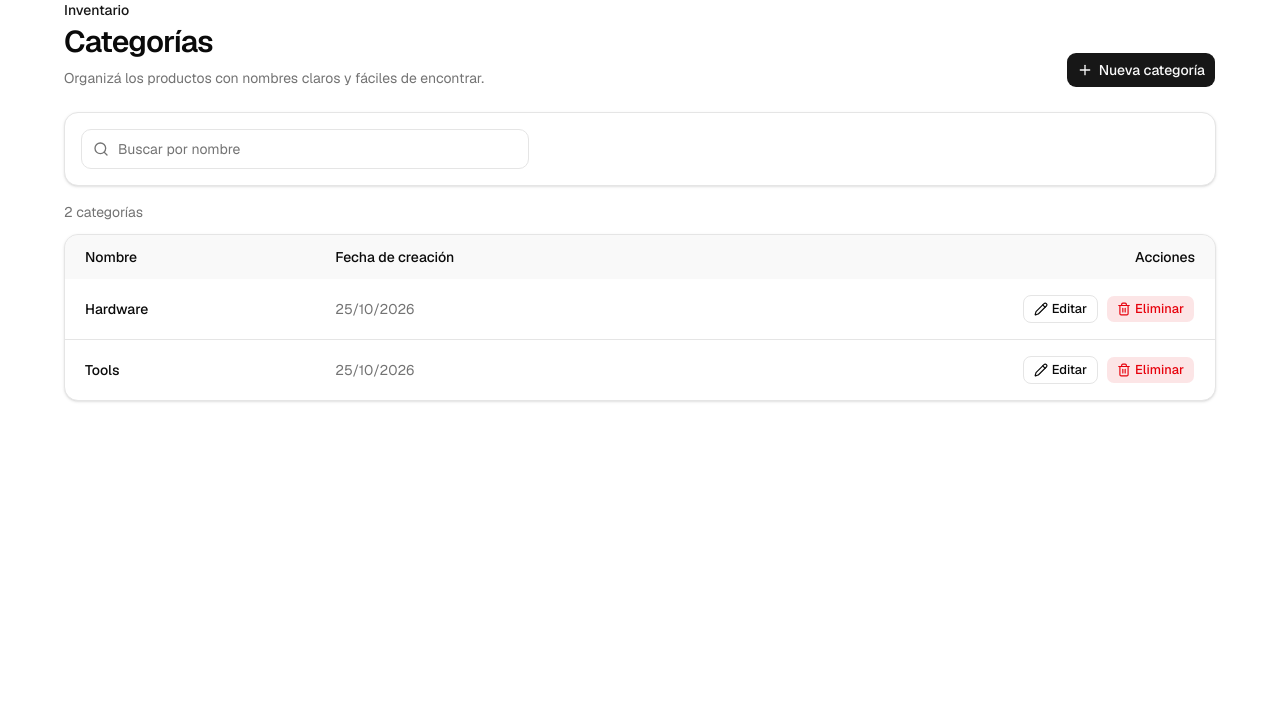
Scenario: CategoriesPage › keeps the form open and shows a duplicate-name conflict
Click the button "Nueva categoría" at (1141, 70), box [1066, 52, 1216, 88]
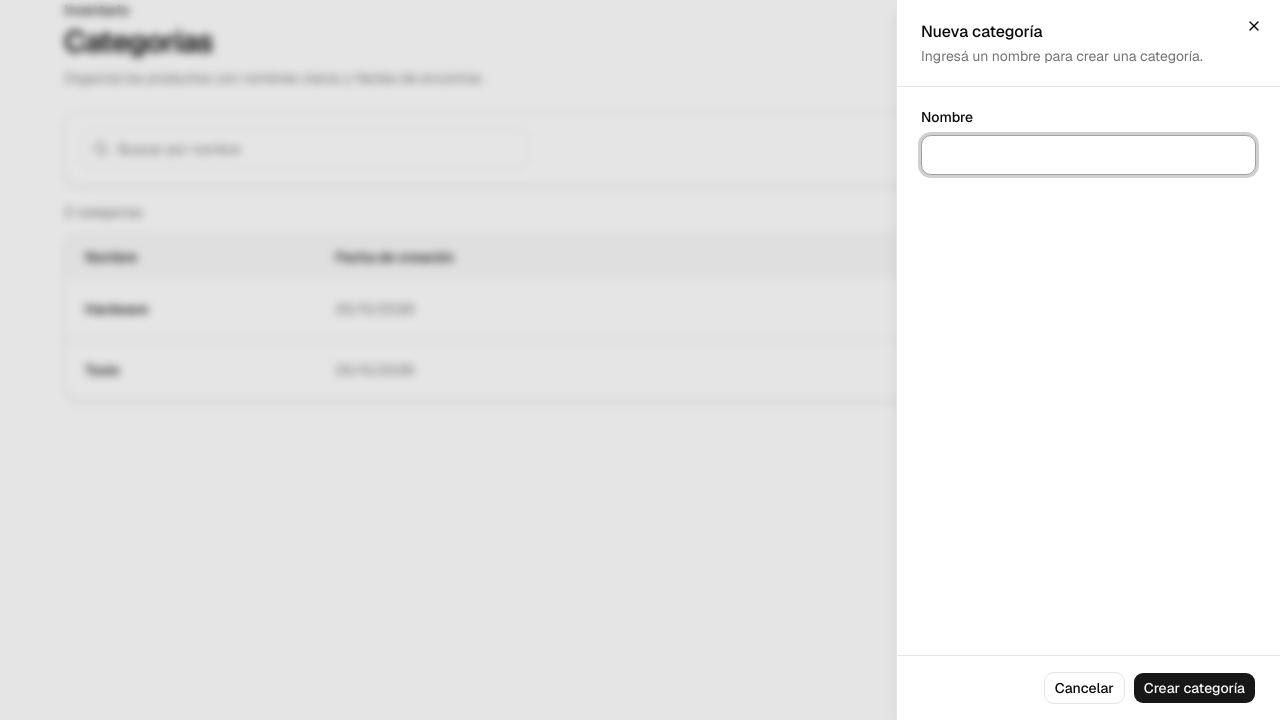
Type "Hardware" into the field labelled "Nombre" at (1088, 155), box [921, 135, 1256, 175]
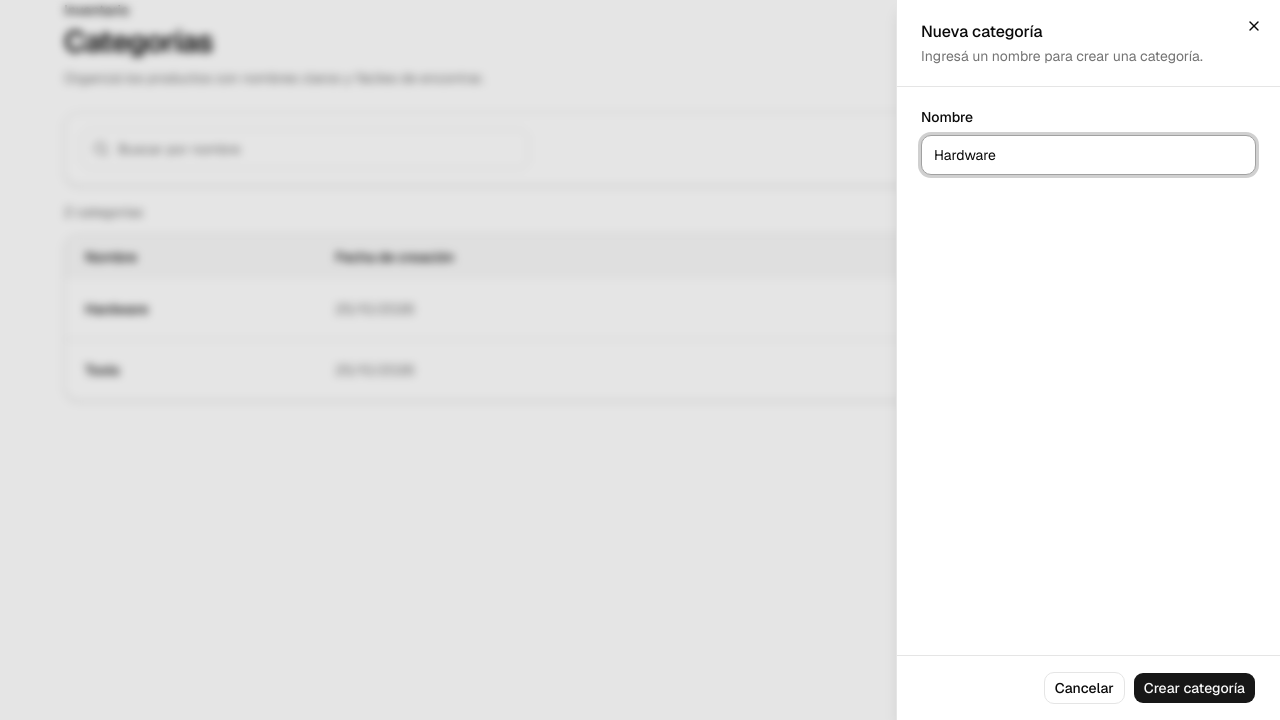
Click the button "Crear categoría" at (1194, 688), box [1133, 672, 1256, 704]
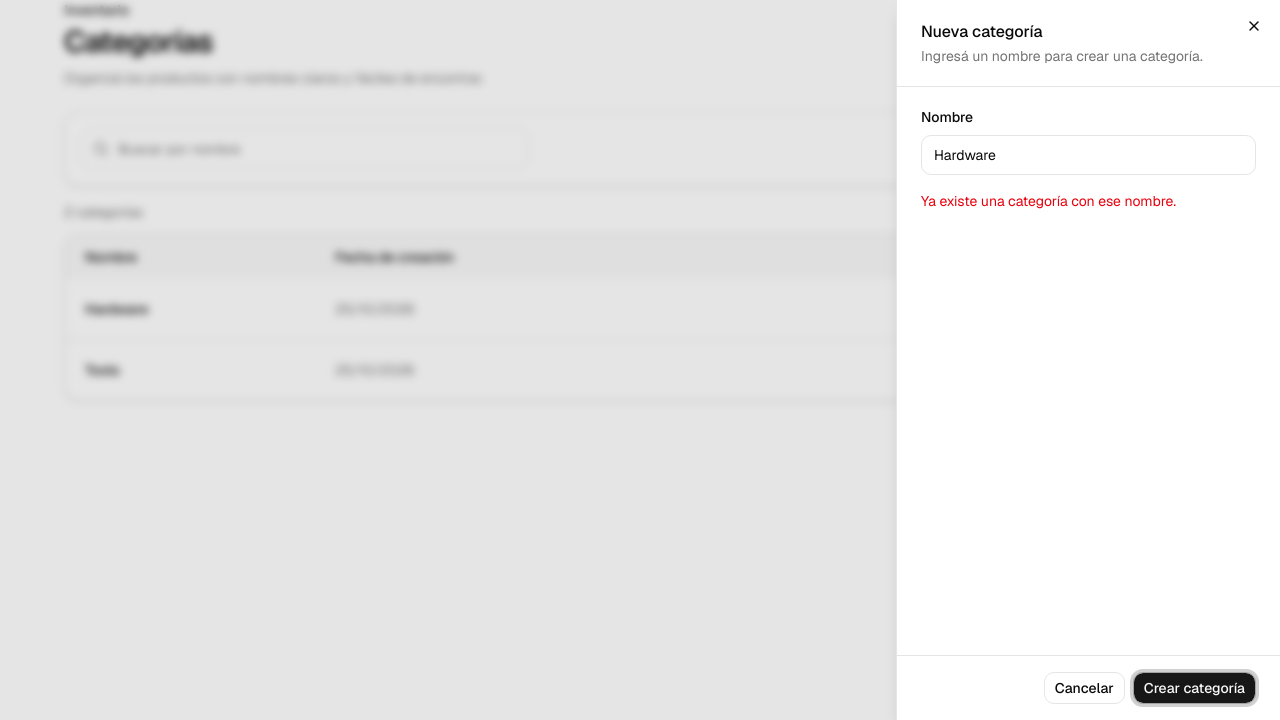
Expected: the message reads "Ya existe una categoría con ese nombre.", [921, 192, 1176, 210]
